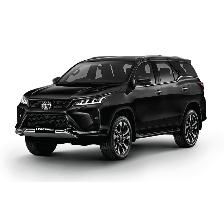NON-EV: (17, 55, 210, 163)
